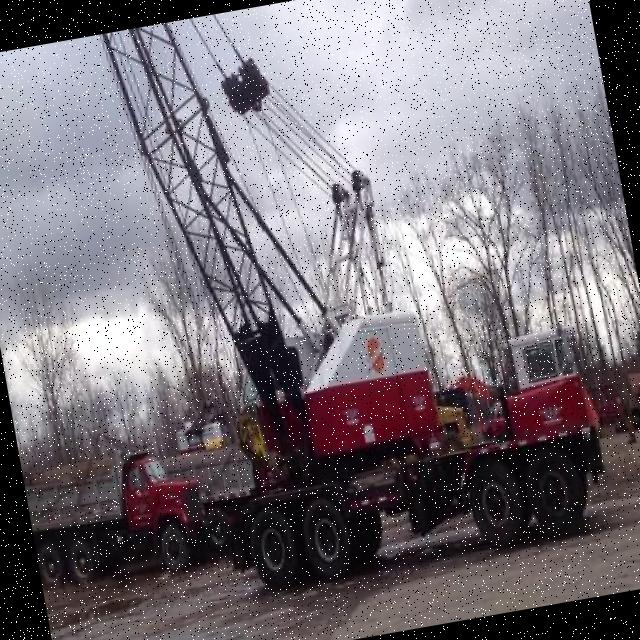Dump Truck: (20, 428, 208, 591)
Mobile Crane: (98, 0, 618, 610)
